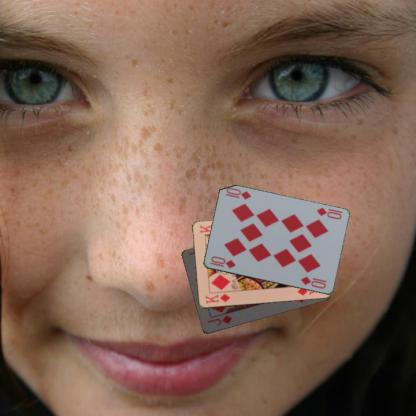10d: (314, 205, 343, 221), (208, 254, 236, 270)
Jd: (204, 313, 234, 327)
Kd: (203, 291, 231, 305)
